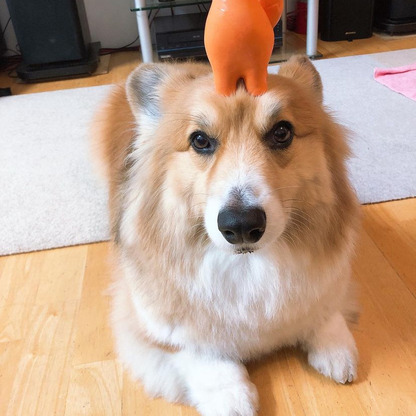Corgi: (97, 55, 386, 410)
